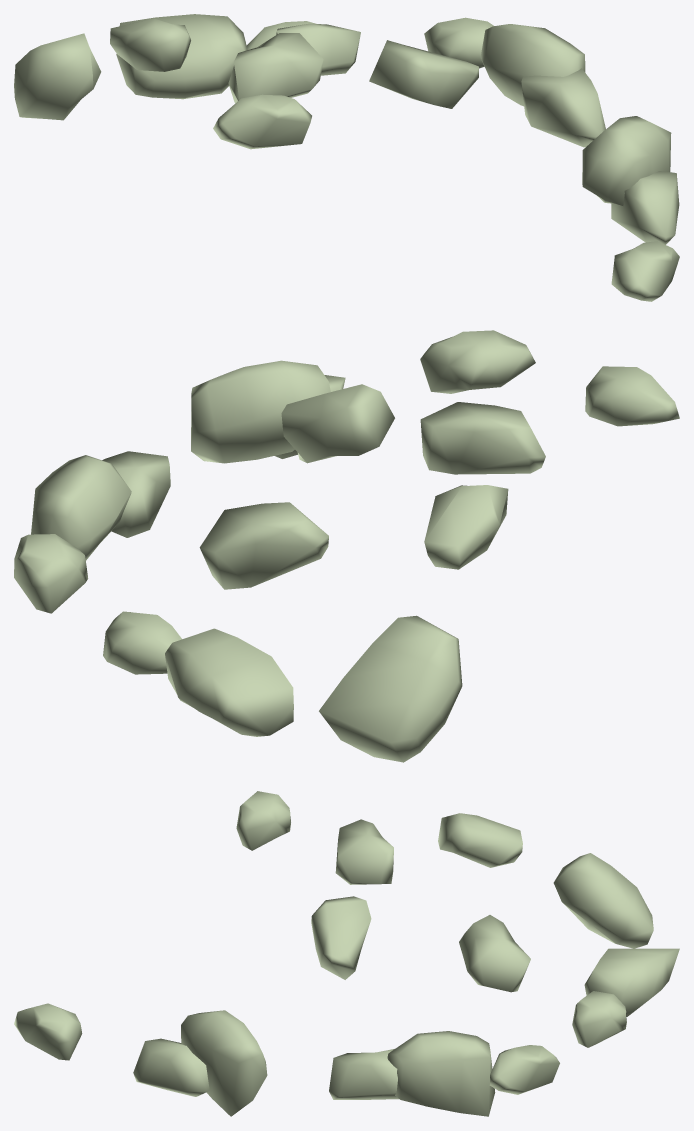
Rendered from Rubble_03B_Lod0.fbx.
3 views of the same model, one above another, from view 1: azimuth 30°, elevation 25°; view 2: azimuth 150°, elevation 25°; view 3: azimuth 270°, elevation 25° (orthographic). The views are drawn at different scales.
Parts seen in each view (by area): view 1: Rubble_03B_Lod0; view 2: Rubble_03B_Lod0; view 3: Rubble_03B_Lod0.
Part boxes in pixels (<box>): Rubble_03B_Lod0: <box>14,14,679,301</box>; Rubble_03B_Lod0: <box>14,330,679,762</box>; Rubble_03B_Lod0: <box>14,791,679,1116</box>.
Bounding box in the file's own units: 146 × 57.85 × 219.
